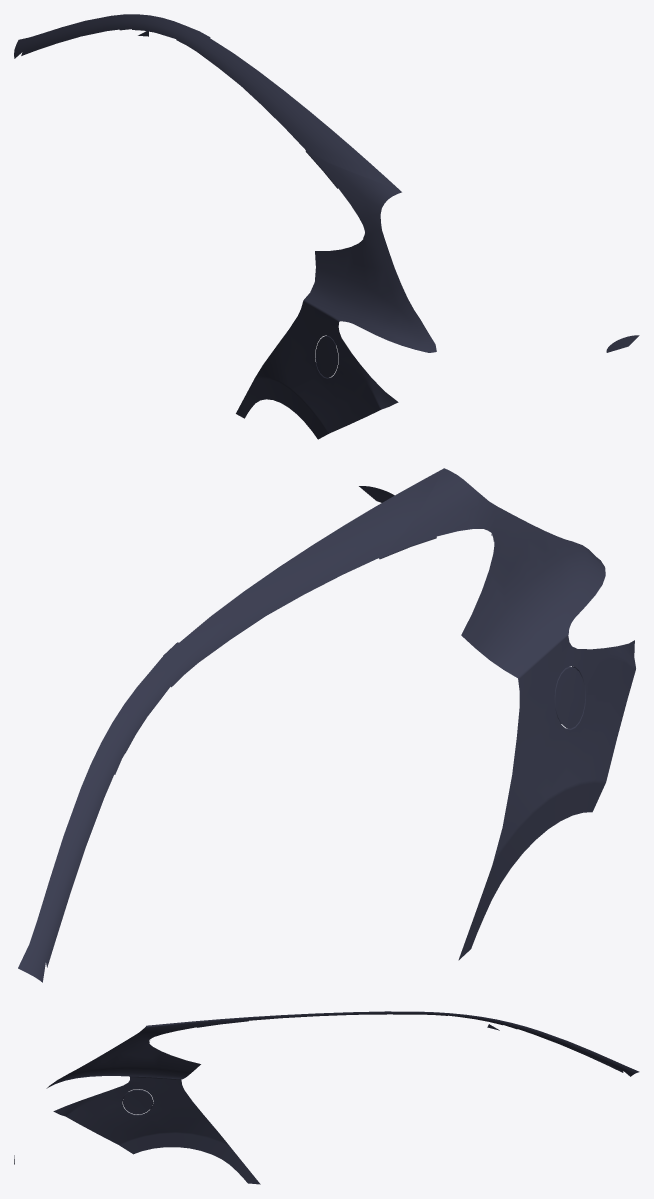
The model's file is set.fbx.
The picture shows the model from 3 angles, top to bottom: view 1: azimuth 30°, elevation 25°; view 2: azimuth 150°, elevation 25°; view 3: azimuth 270°, elevation 25°; orthographic projection. The views are drawn at different scales.
Visible parts, largest first — view 1: cc1.011, cc1.013; view 2: cc1.011, cc1.013; view 3: cc1.011, cc1.013.
Boxes of the visible parts, left/top/right/bottom form: cc1.011: left=236, top=150, right=639, bottom=439; cc1.013: left=14, top=14, right=401, bottom=191; cc1.011: left=359, top=468, right=635, bottom=960; cc1.013: left=18, top=468, right=443, bottom=982; cc1.011: left=14, top=1020, right=260, bottom=1184; cc1.013: left=148, top=1011, right=639, bottom=1076.
Bounding box in the file's own units: 126 × 138 × 386.
